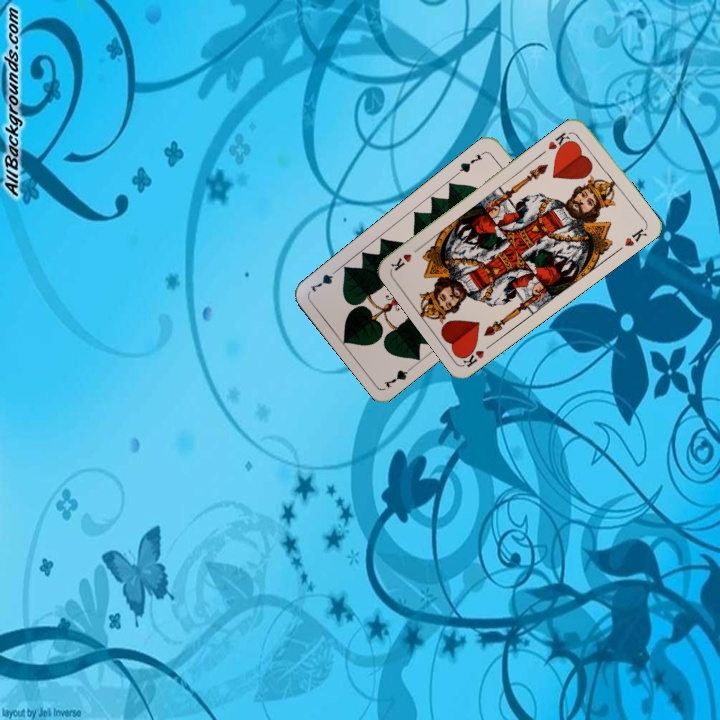G7: (380, 361, 417, 391), (453, 147, 488, 176)
HK: (458, 338, 497, 370), (544, 128, 576, 156)
